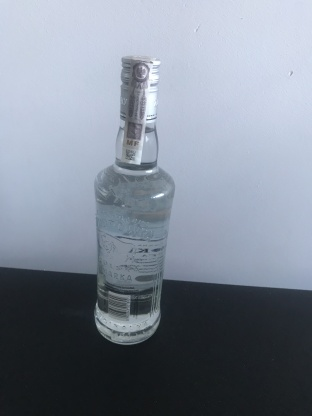nakretka: (114, 48, 164, 126)
